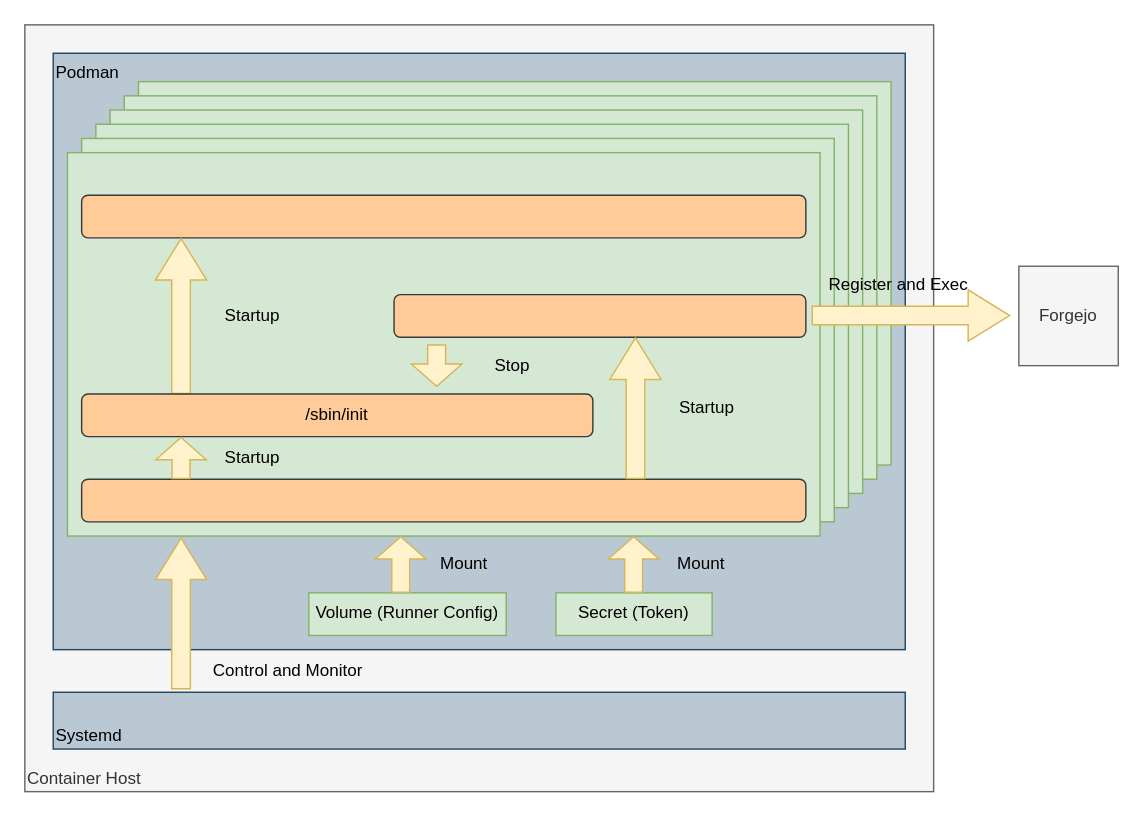
The diagram is 1143 pixels wide and 817 high, and some of its shapes have lost their labels. Here are the shapes that lost their labels. From the top down, the box of each, then its label:
(80, 194, 806, 238): Docker Daemon
(393, 293, 806, 337): Actions Runner
(66, 151, 820, 536): Container (Self Hosted Runner)
(80, 478, 806, 522): /docker-entrypoint.sh
